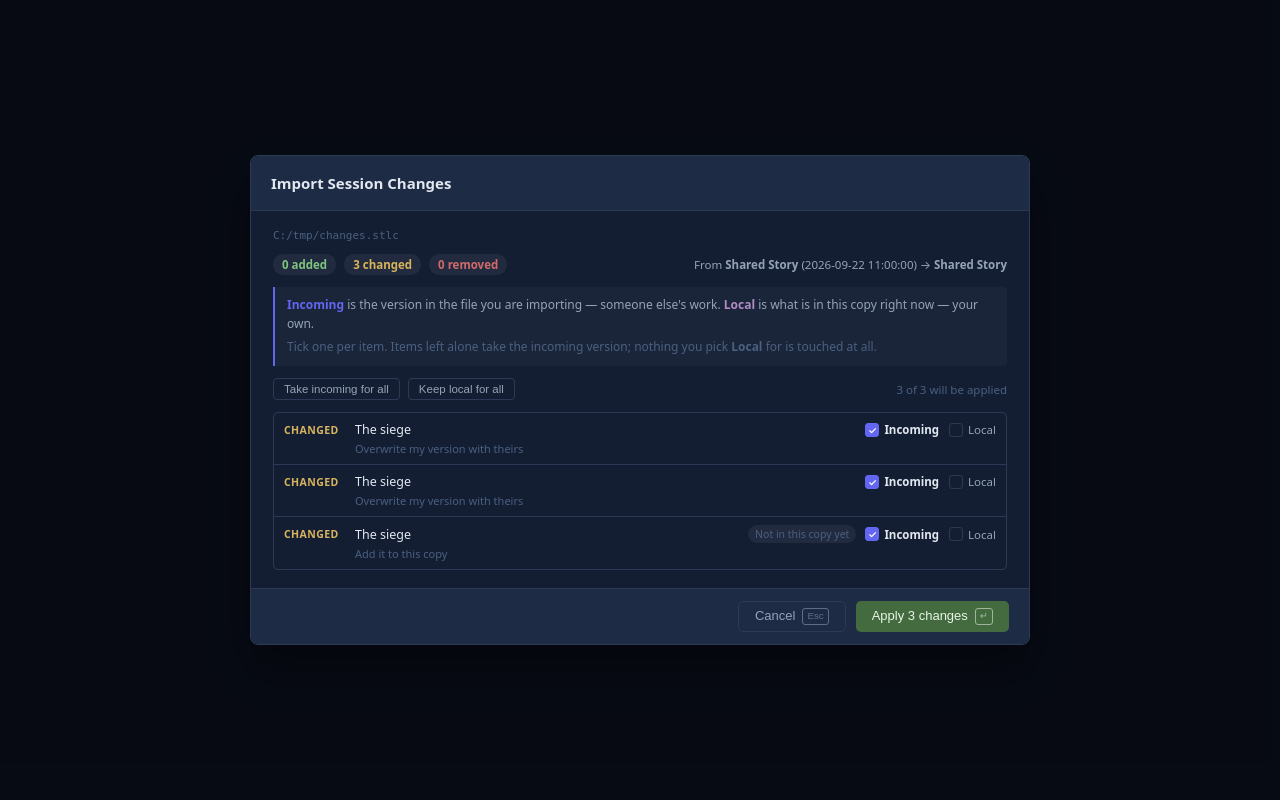
SessionChangesImportModal › the bulk buttons move every row at once
What coordinates should you click on to do the following:
click the button with class "bulk-btn" showing "Keep local for all"
I would click on:
 (461, 389)
Its box is x1=408 y1=378 x2=515 y2=400.
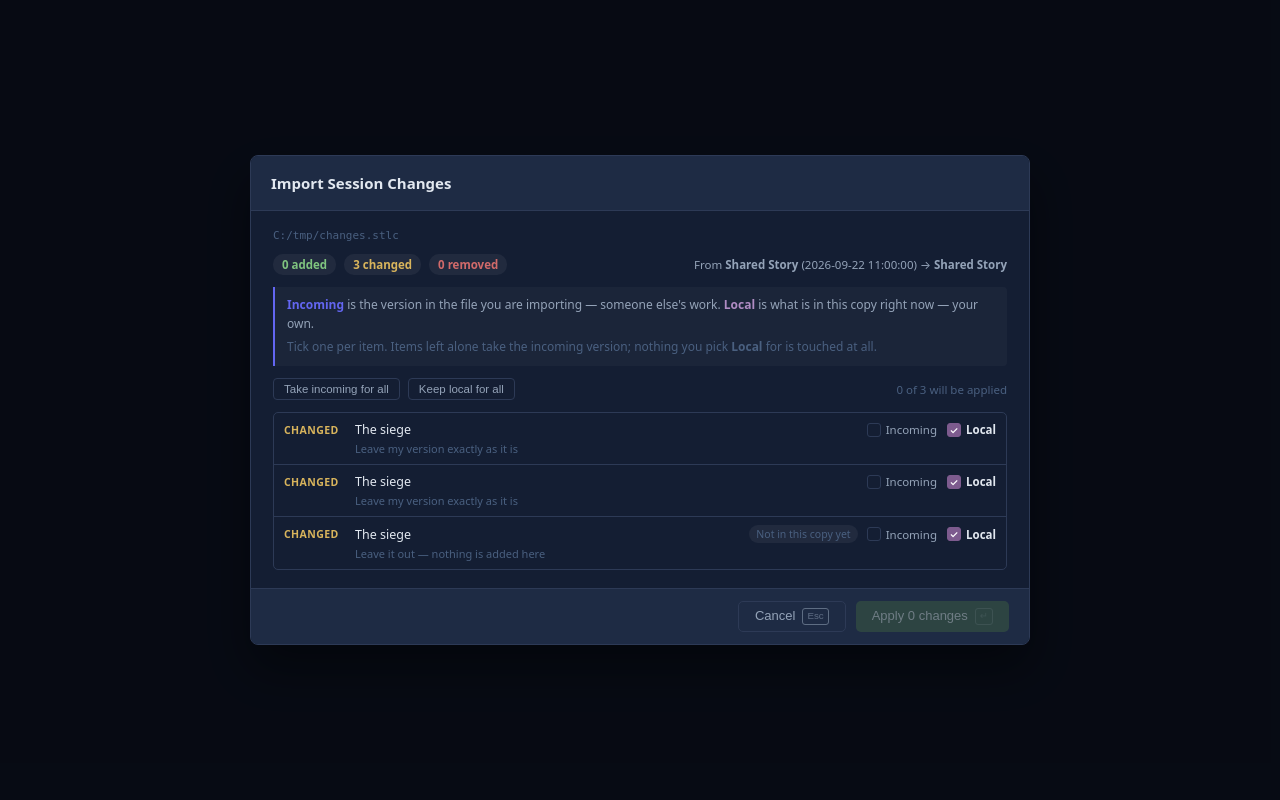
Check: the text with class "bulk-tally" reads "0 of 3 will be applied", box x1=896 y1=382 x2=1007 y2=397
What coordinates should you click on to do the following:
click the button with class "bulk-btn" showing "Take incoming for all"
I would click on:
 (336, 389)
Its box is x1=273 y1=378 x2=400 y2=400.
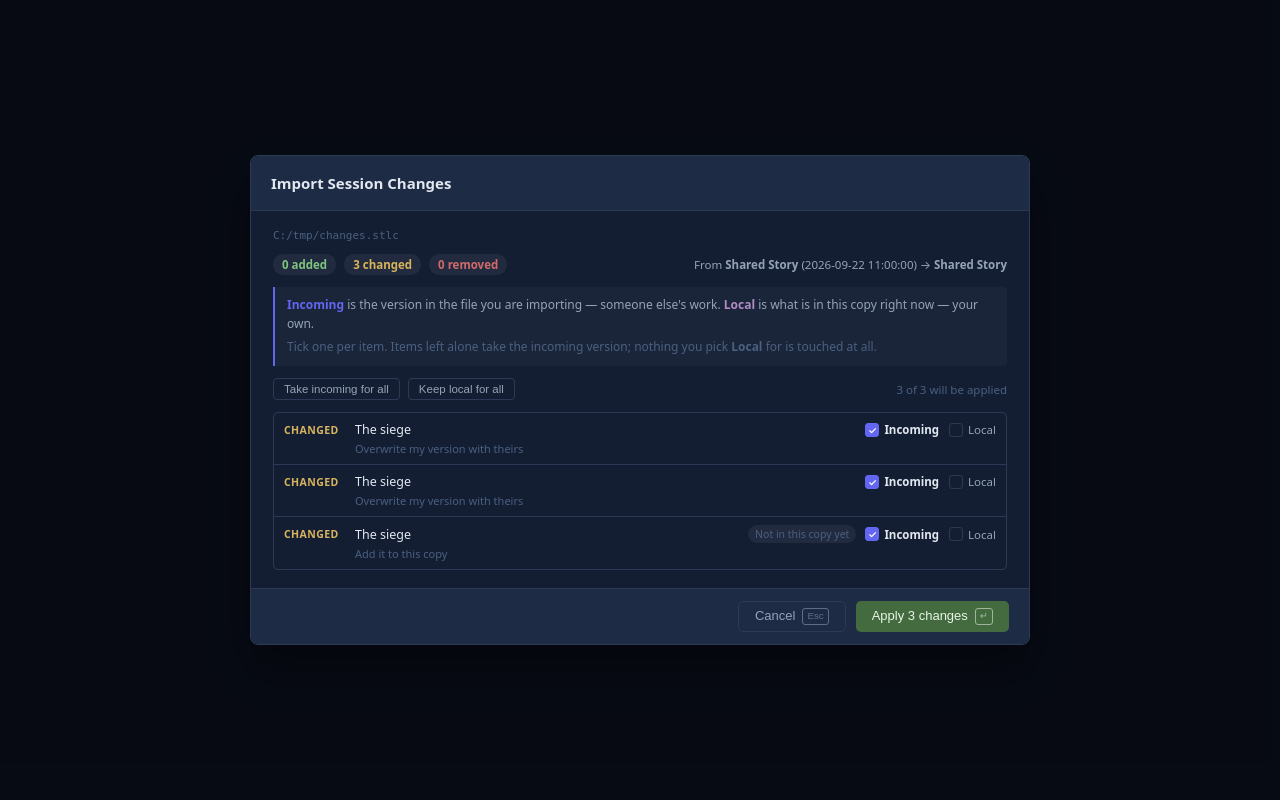
Check: the text with class "bulk-tally" reads "3 of 3 will be applied", box x1=896 y1=382 x2=1007 y2=397
Check: the button "Apply 3 changes" is shown, box x1=856 y1=601 x2=1009 y2=632
